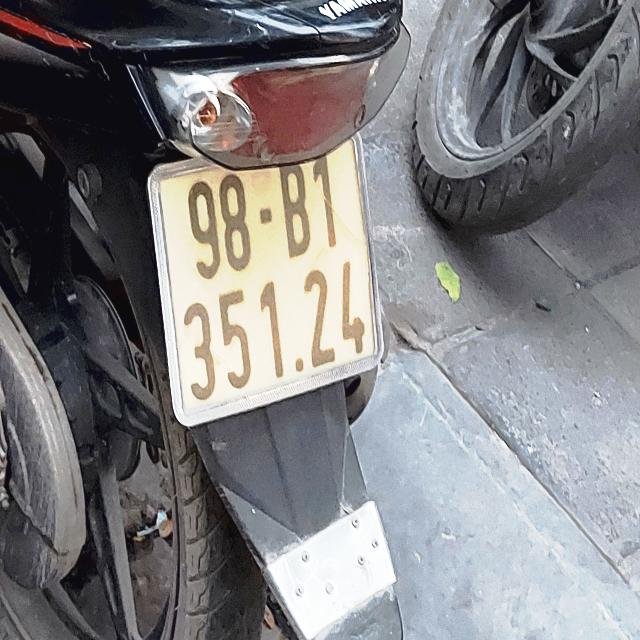license_plate: (129, 117, 399, 449)
